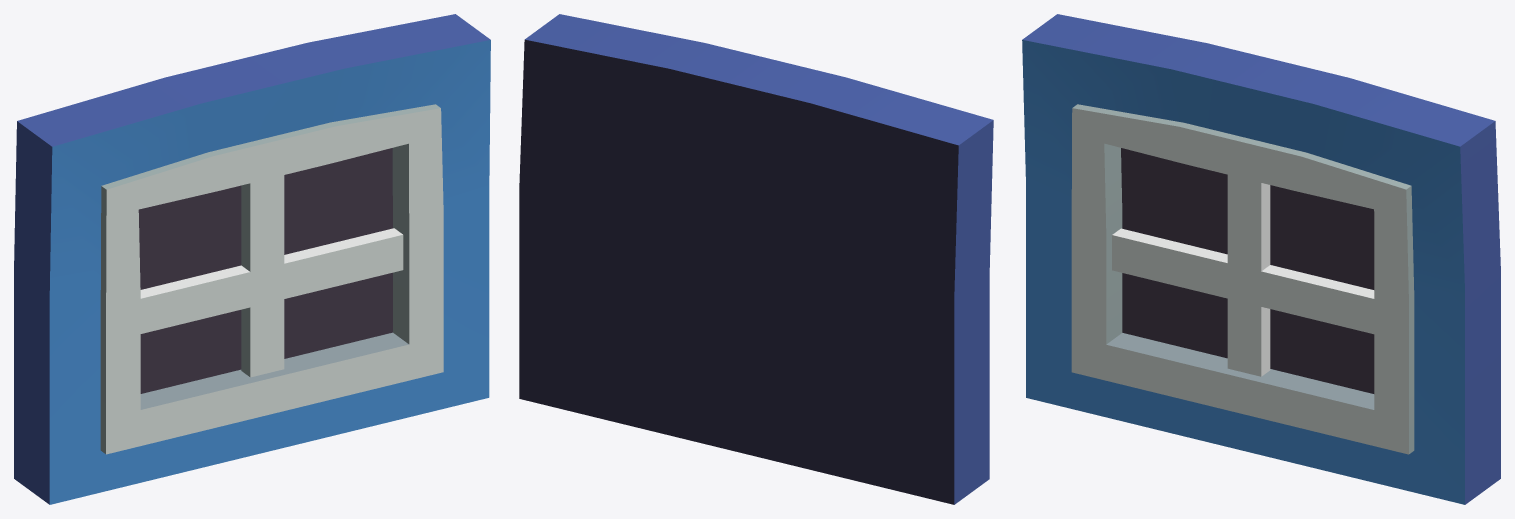
File: Window02_Blue_White.glb
The picture shows the model from 3 angles, left to right: view 1: azimuth 30°, elevation 25°; view 2: azimuth 150°, elevation 25°; view 3: azimuth 330°, elevation 25°; orthographic projection.
Parts seen in each view (by area): view 1: Window02_Blue_White; view 2: Window02_Blue_White; view 3: Window02_Blue_White.
Boxes of the visible parts, x1,y1,x2,y2 form: Window02_Blue_White: (14, 14, 490, 504); Window02_Blue_White: (519, 14, 993, 504); Window02_Blue_White: (1022, 14, 1500, 504).
Size of the model in its own units: 0.9012 by 0.7186 by 0.1456.
1 material, 1 textured.
